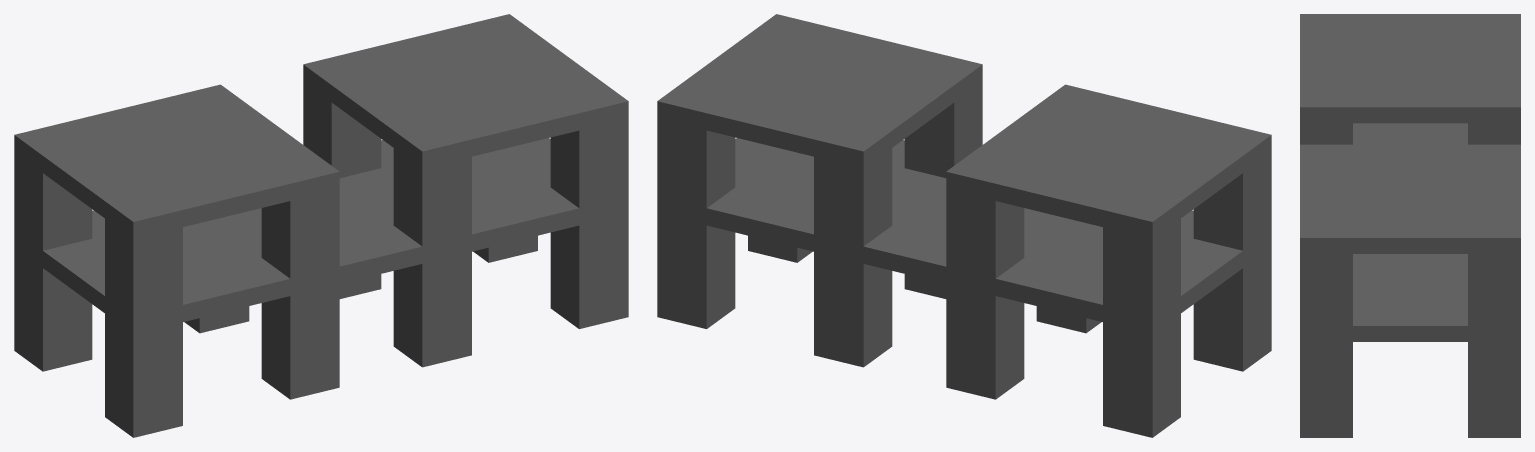
The model's file is TwentyTwoModel.fbx.
3 views of the same model, side by side, from view 1: azimuth 30°, elevation 25°; view 2: azimuth 150°, elevation 25°; view 3: azimuth 270°, elevation 25° (orthographic). The views are drawn at different scales.
Parts seen in each view (by area): view 1: Box; view 2: Box; view 3: Box.
Part boxes in pixels (box(x1,y1,x2,y2)): Box: box(14, 14, 628, 437); Box: box(657, 14, 1271, 437); Box: box(1300, 14, 1520, 437).
Bounding box in the file's own units: 60 × 25 × 25.
Materials: 1 (1 with a texture image).
